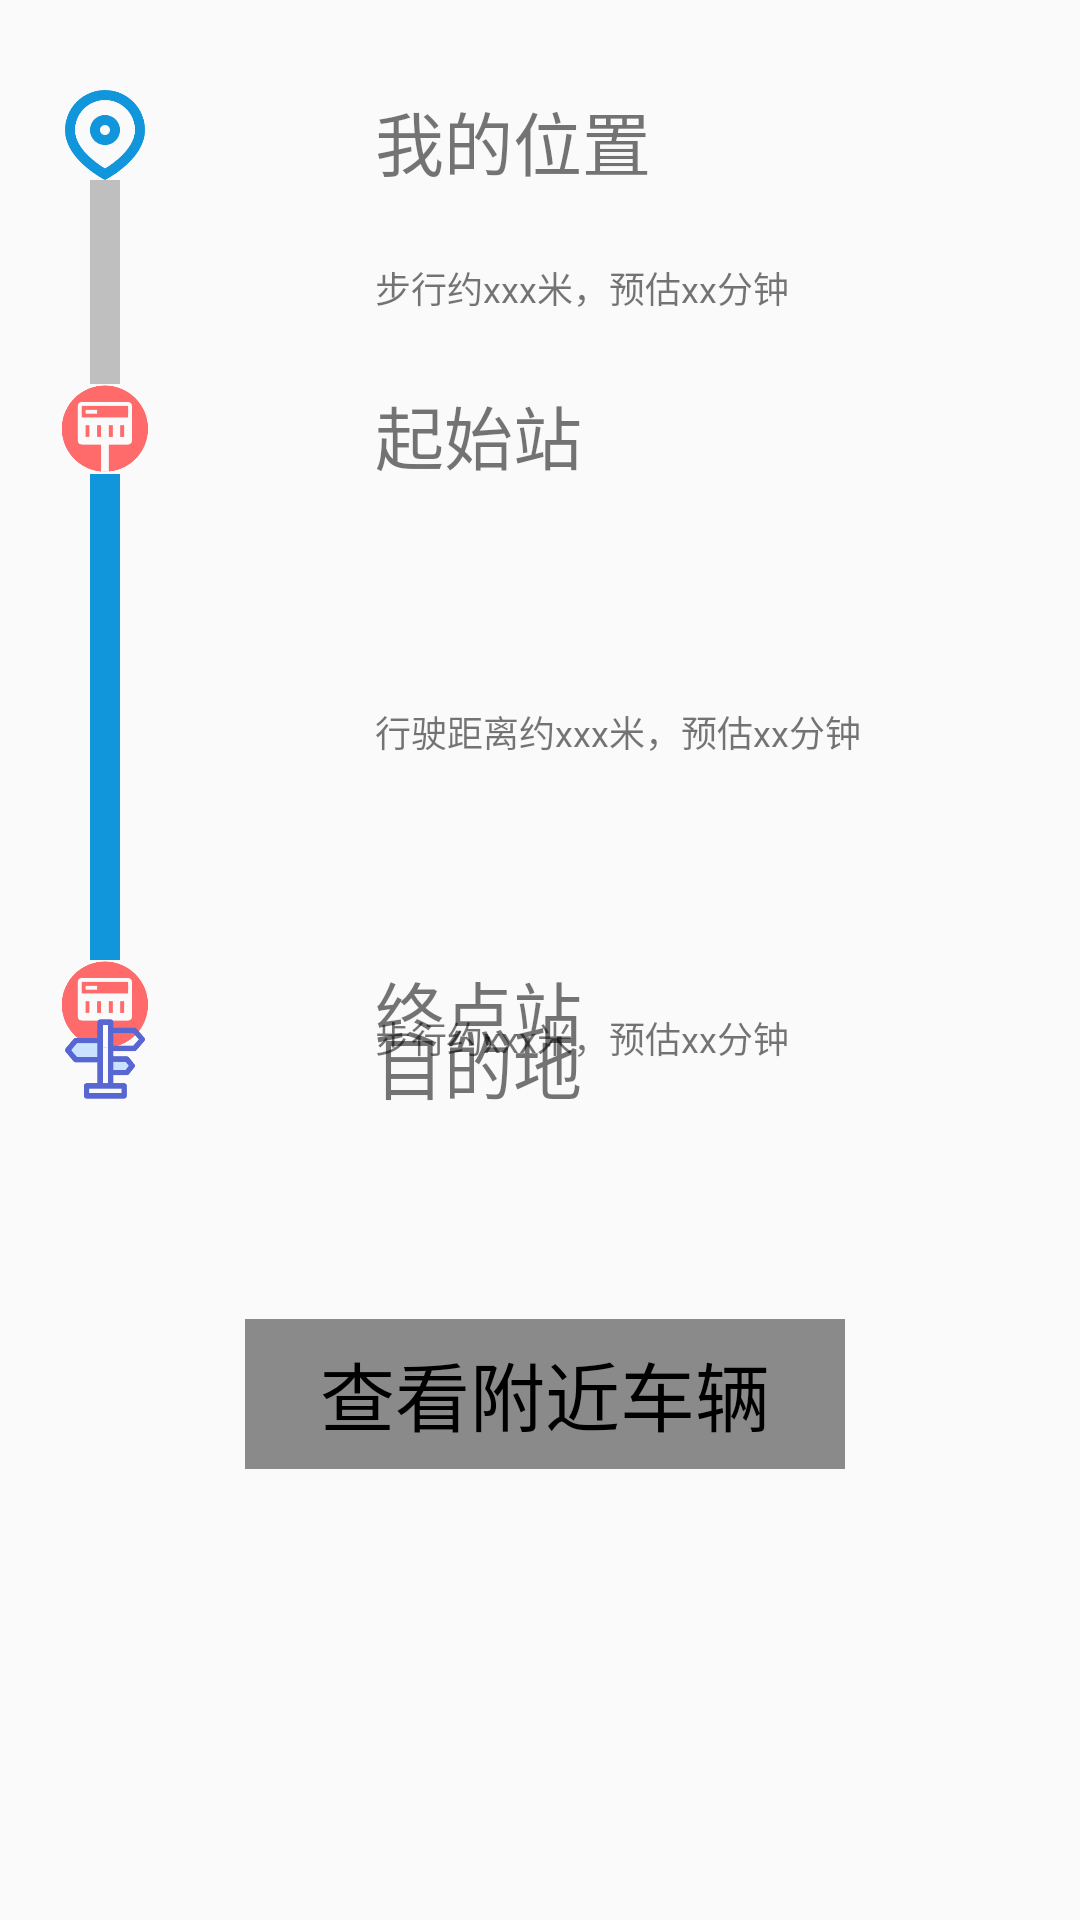

Where to tap for icons on this 1080px×1920px app screen, as point (x, y):
destination: point (105, 1056)
userlocation: point (105, 135)
